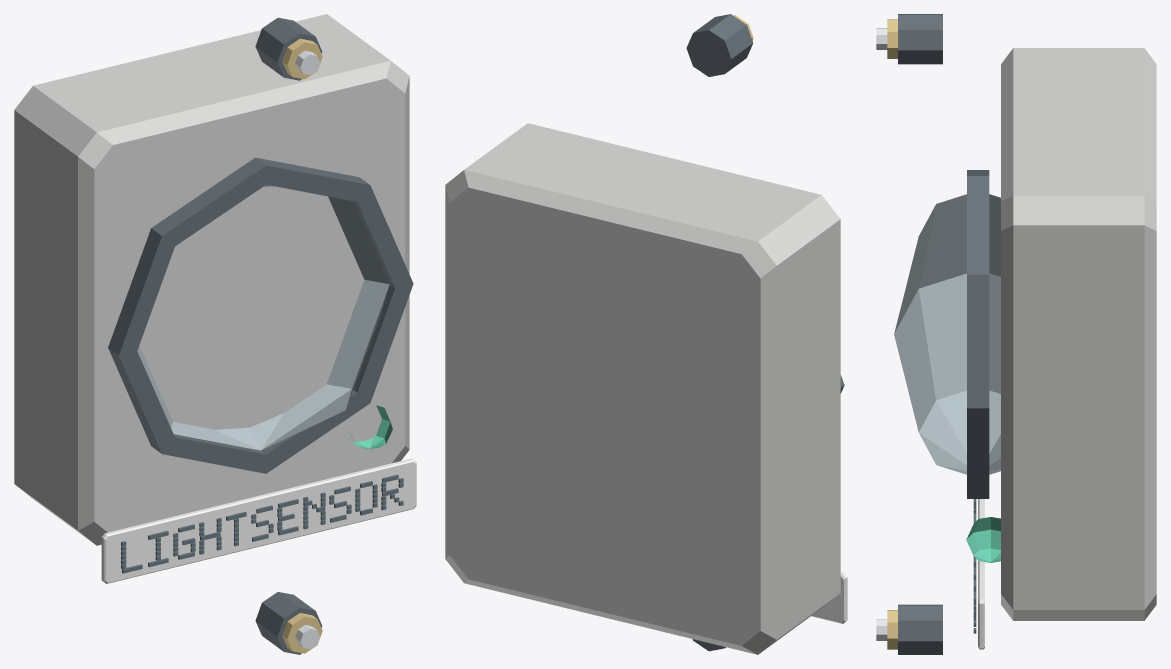
Rendered from lightSensor.glb.
The picture shows the model from 3 angles, left to right: view 1: azimuth 30°, elevation 25°; view 2: azimuth 150°, elevation 25°; view 3: azimuth 270°, elevation 25°; orthographic projection. The views are drawn at different scales.
Parts seen in each view (by area): view 1: lightSensor-board; view 2: lightSensor-board; view 3: lightSensor-board.
Part boxes in pixels (left/top/right/bottom): lightSensor-board: left=14, top=14, right=416, bottom=654; lightSensor-board: left=445, top=14, right=847, bottom=654; lightSensor-board: left=876, top=14, right=1156, bottom=654.
Size of the model in its own units: 1.41 by 2.52 by 1.
